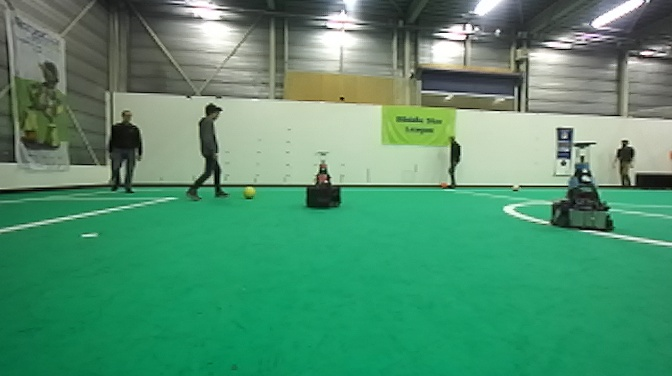ball: (241, 183, 259, 200), (510, 181, 521, 194), (440, 180, 449, 191)
human: (182, 101, 230, 202), (103, 109, 146, 195), (609, 137, 639, 190), (444, 134, 460, 190)
robot: (549, 141, 615, 232), (305, 148, 344, 212)
